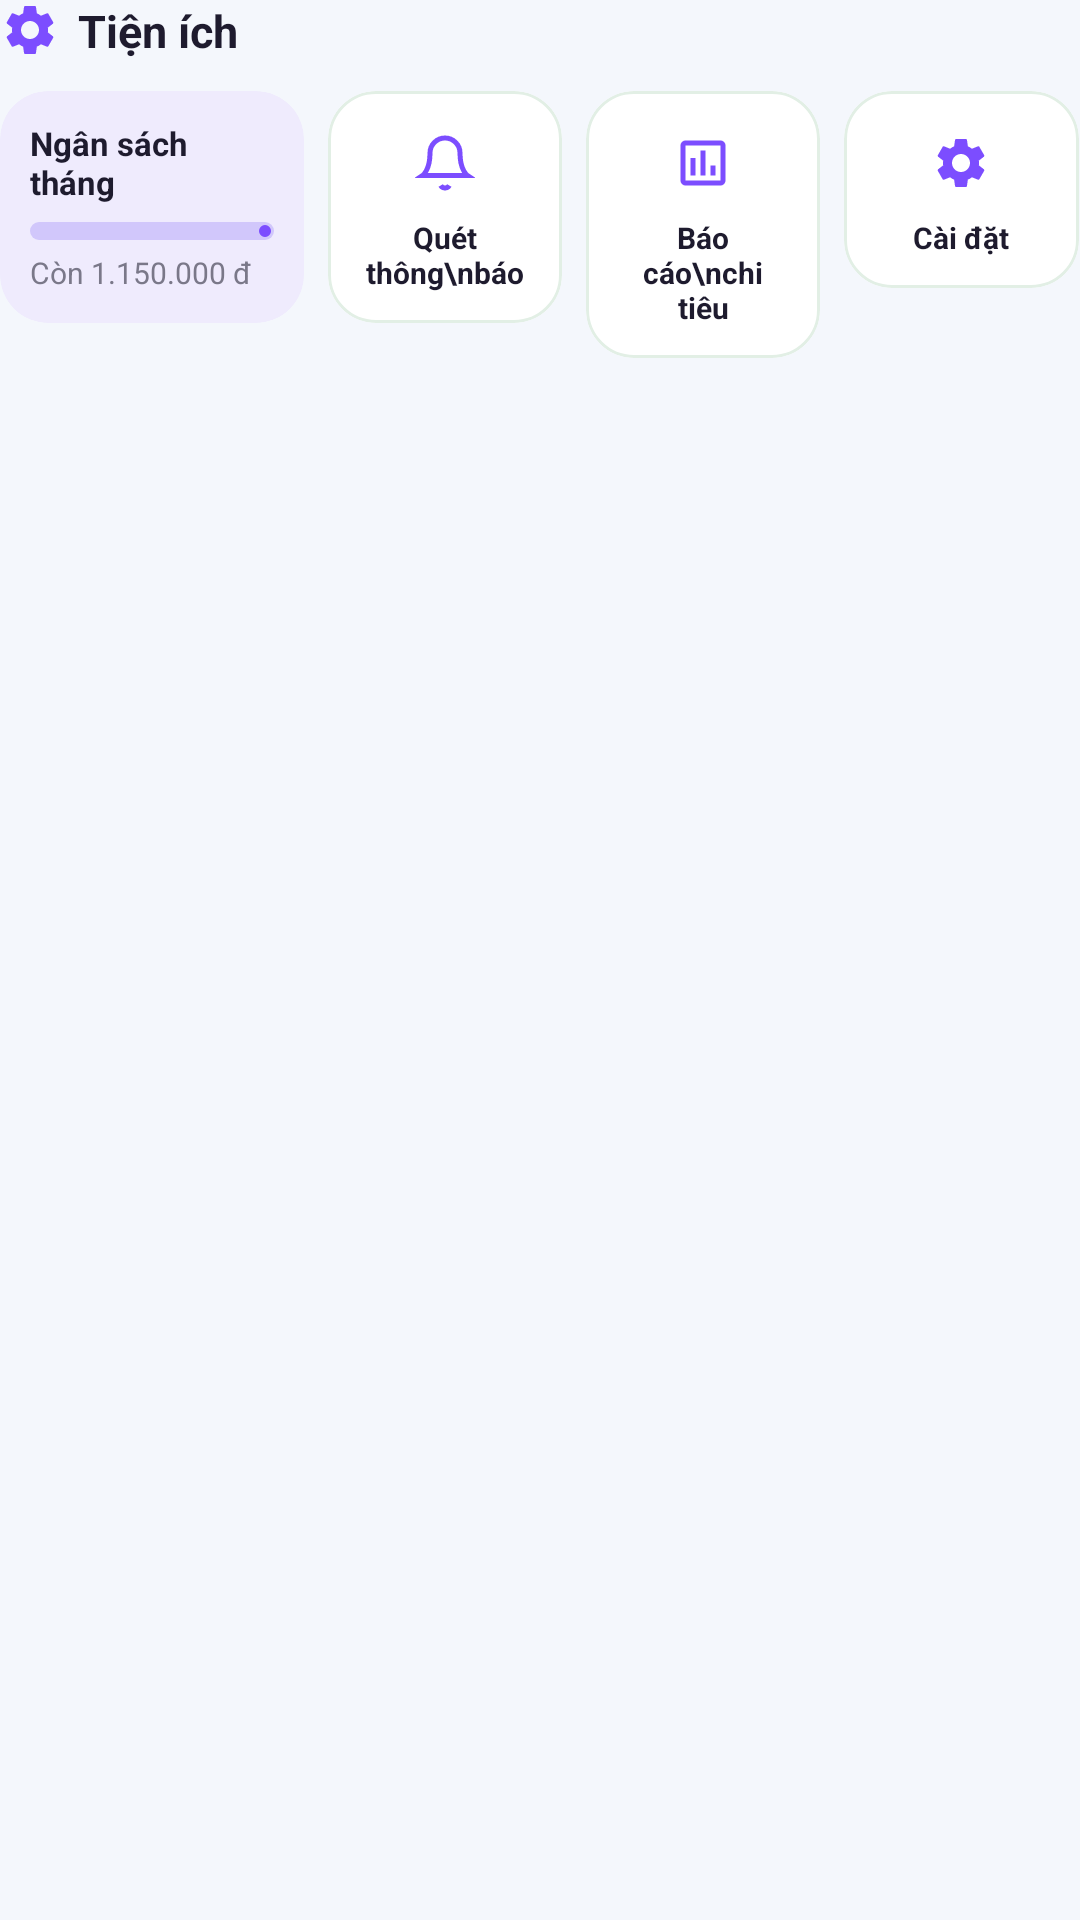

Icon click points for this 1080w x 1920h phone screenshot, format (x,y):
Báo cáo chi tiêu: (703,163)
Quét thông báo: (445,163)
